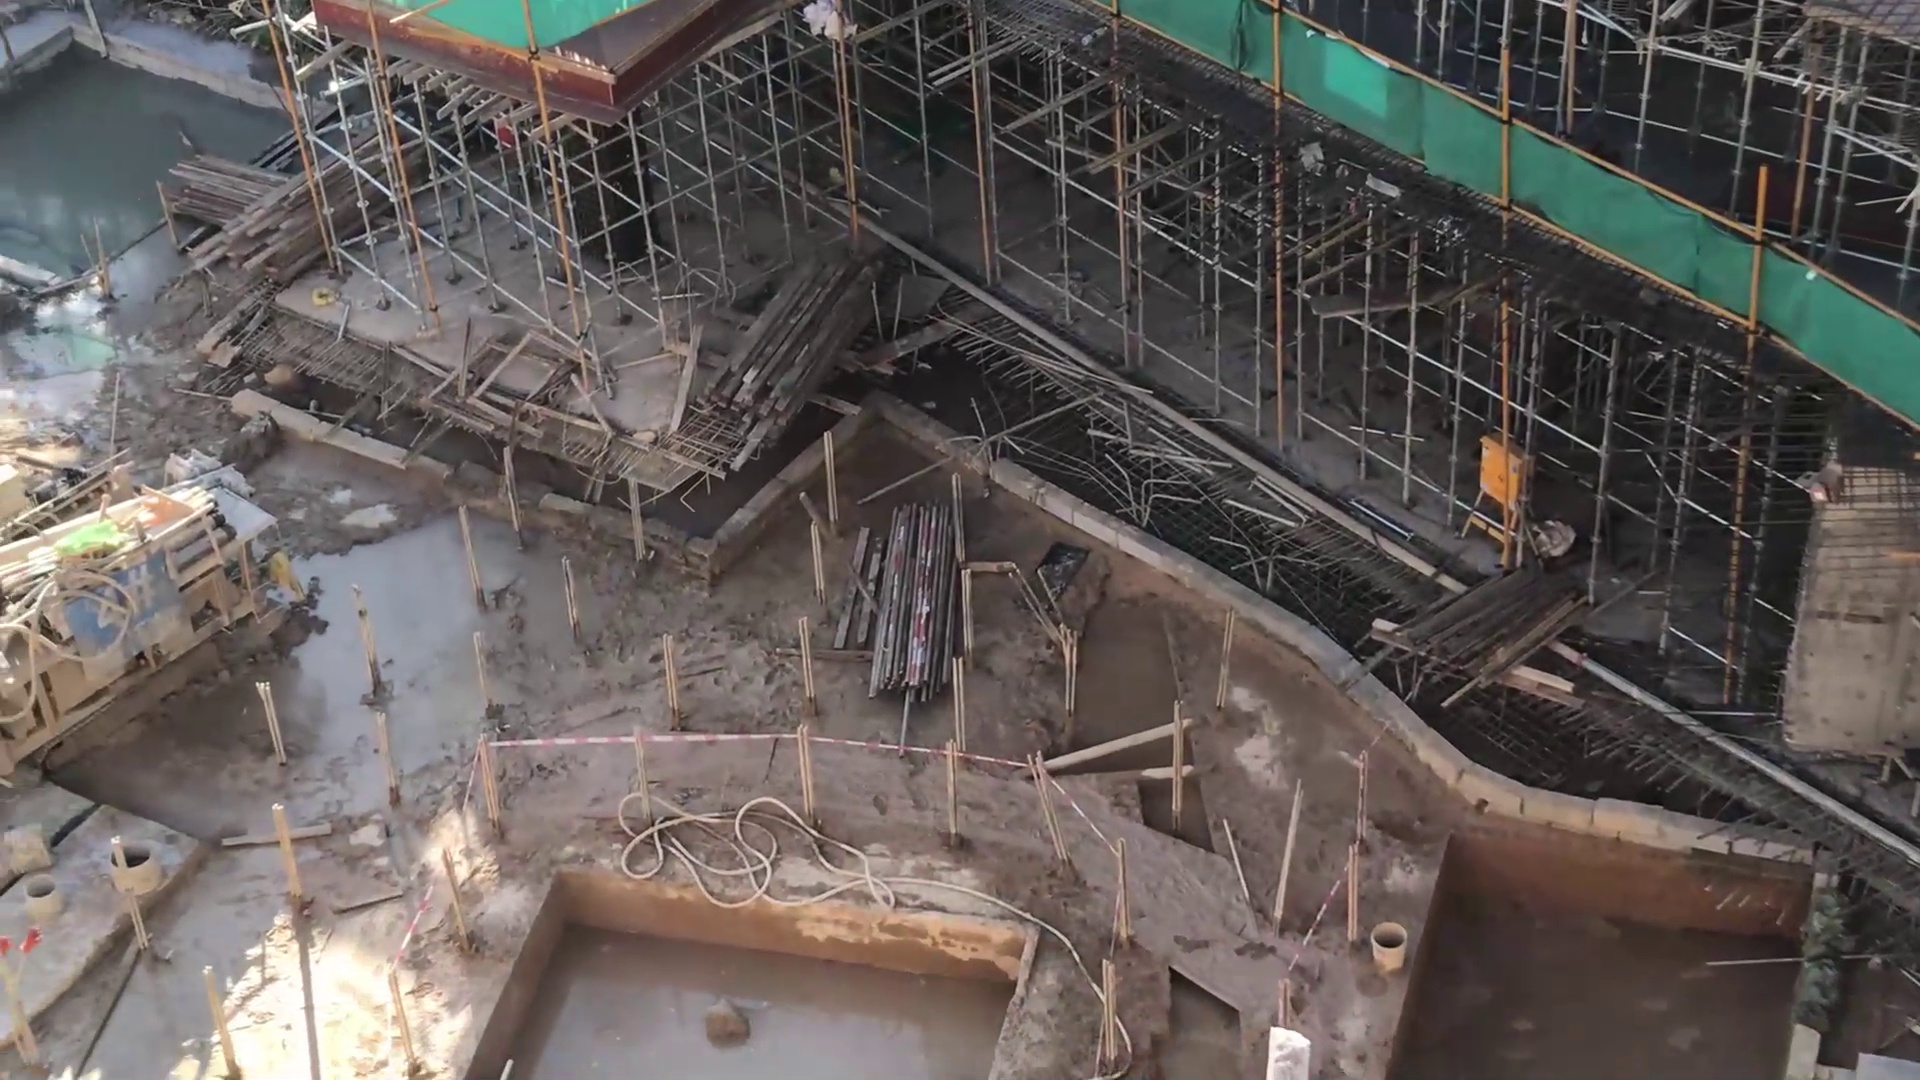ebox: (1456, 411, 1556, 568)
